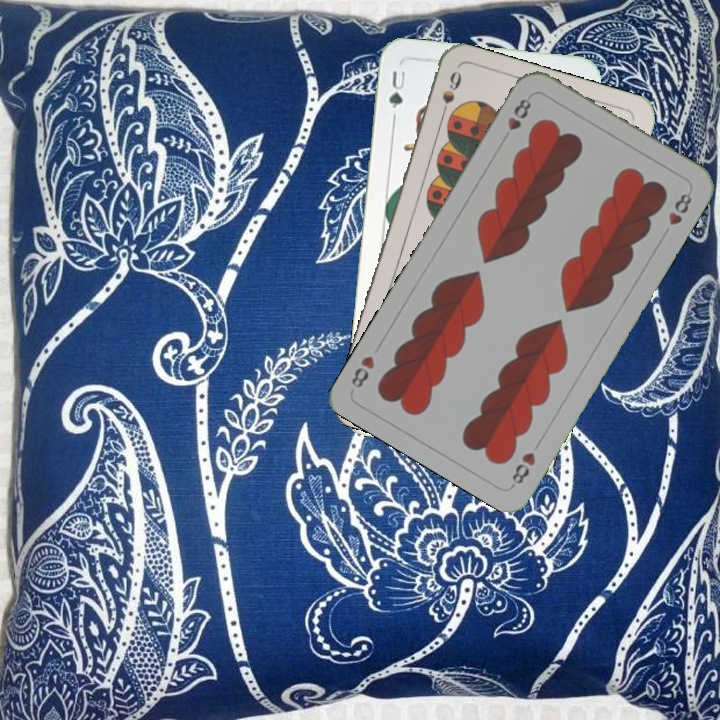GU: (385, 67, 408, 111)
H8: (498, 94, 534, 145), (507, 448, 539, 489)
S9: (436, 67, 464, 124)
